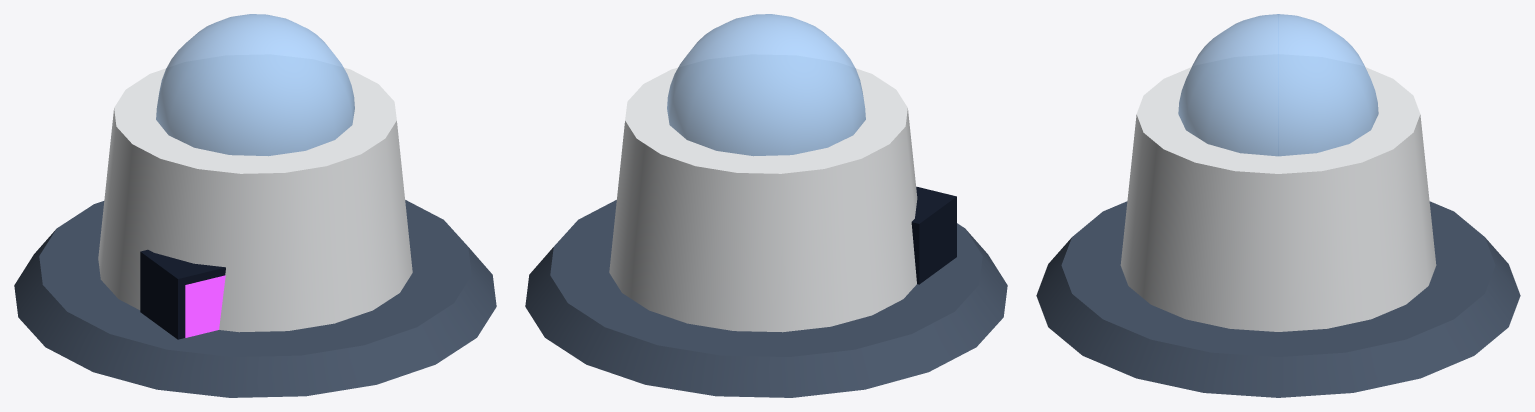
File: ohara_library.glb
3 views of the same model, side by side, from view 1: azimuth 30°, elevation 25°; view 2: azimuth 150°, elevation 25°; view 3: azimuth 270°, elevation 25° (orthographic).
Parts seen in each view (by area): view 1: OharaArchive; view 2: OharaArchive; view 3: OharaArchive.
Boxes of the visible parts, <box> form: OharaArchive: <box>14,14,496,397</box>; OharaArchive: <box>525,14,1007,397</box>; OharaArchive: <box>1036,14,1520,397</box>.
Bounding box in the file's own units: 11.6 × 7.2 × 11.6.
